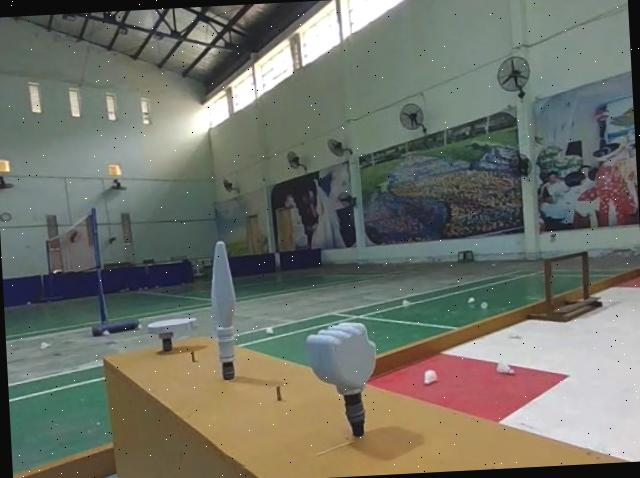Fist: (299, 318, 379, 440)
Hand: (144, 314, 189, 351)
Sph: (205, 239, 243, 382)
